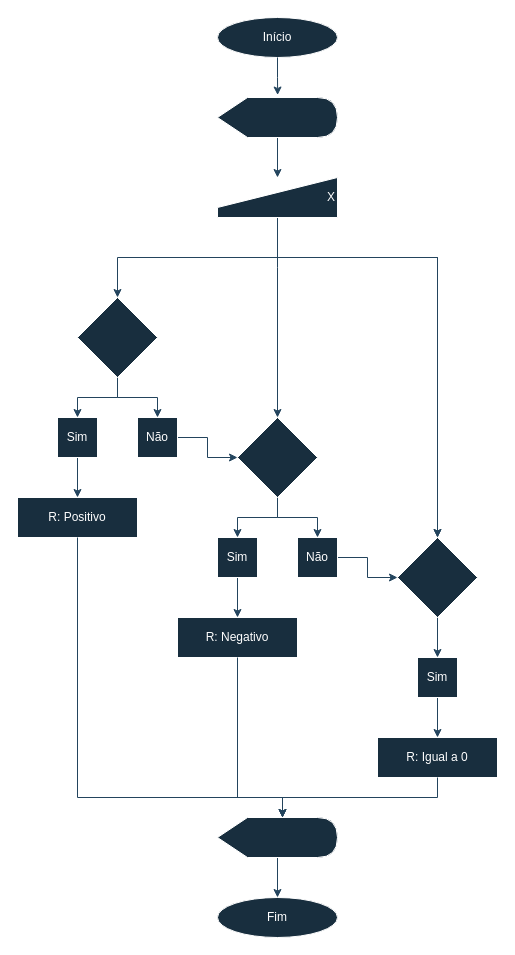
Image size: 515x955. Some labels were removed from this diagram. The shapes that lost their labels are listed below. From the top down, each one's centre as x and y in pixels, then its label:
(277,117): Digite um número inteiro qualquer
(117,337): maior que 0
(277,457): menor que 0
(437,577): igual a 0
(277,837): O número é (R)
